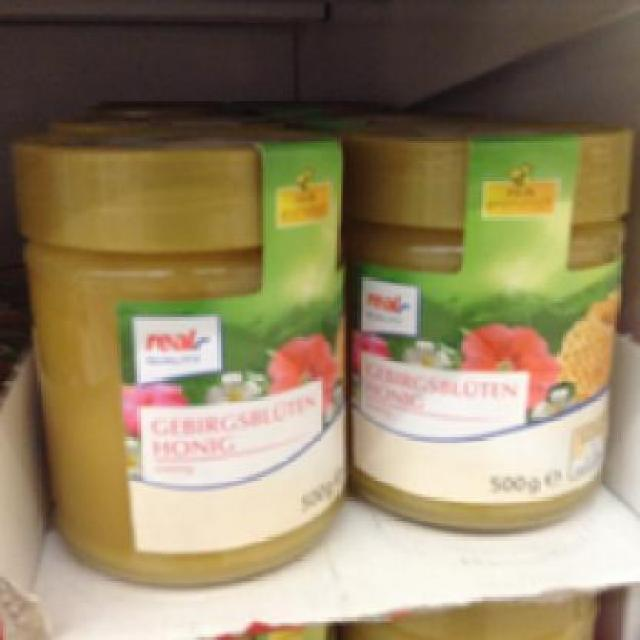Honey: (3, 122, 354, 598), (348, 114, 634, 526)
